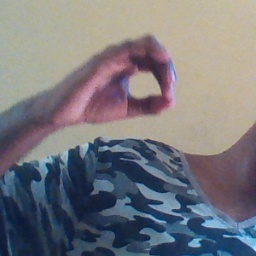O: (59, 30, 183, 125)
